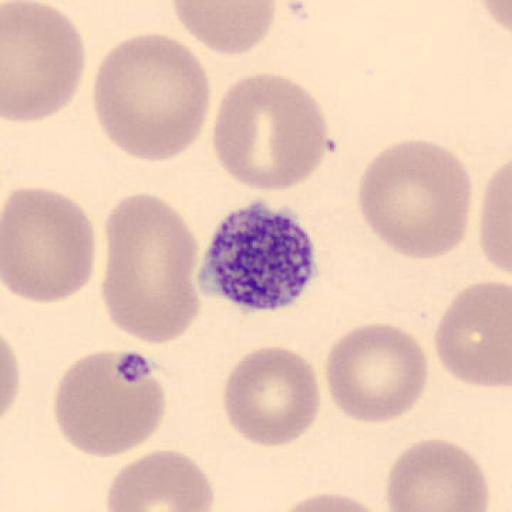Platelet: (194, 198, 324, 314)
RBC: (92, 31, 211, 164), (102, 192, 200, 345), (356, 138, 474, 260), (212, 71, 328, 193), (52, 348, 168, 460), (2, 186, 96, 306), (324, 322, 428, 426), (2, 0, 88, 124), (220, 345, 322, 448), (433, 280, 511, 390), (386, 437, 490, 512), (105, 448, 216, 512), (170, 0, 278, 56), (478, 157, 512, 277), (270, 492, 388, 511), (0, 330, 20, 426), (476, 0, 512, 37)
